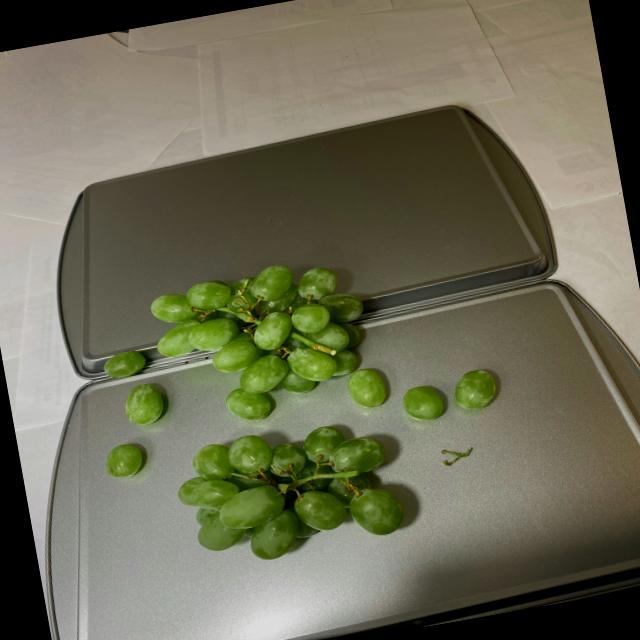grapes: (80, 232, 522, 586)
